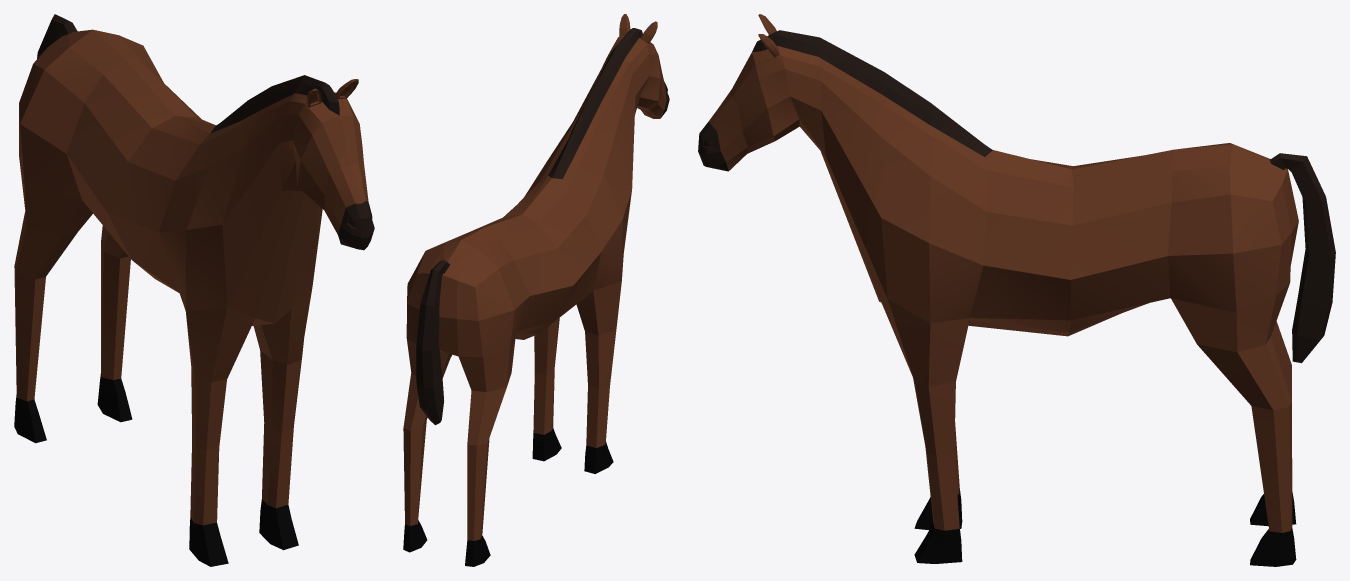
File: horse.dae
3 renders of one model, left to right at view 1: azimuth 30°, elevation 25°; view 2: azimuth 150°, elevation 25°; view 3: azimuth 270°, elevation 25°, orthographic. The views are drawn at different scales.
Parts seen in each view (by area): view 1: 17horseFinal; view 2: 17horseFinal; view 3: 17horseFinal.
Part boxes in pixels (box(x1,y1,x2,y2)): 17horseFinal: box(14, 14, 374, 566); 17horseFinal: box(403, 14, 669, 566); 17horseFinal: box(698, 14, 1335, 566).
Size of the model in its own units: 0.5351 by 2.09 by 1.87.
